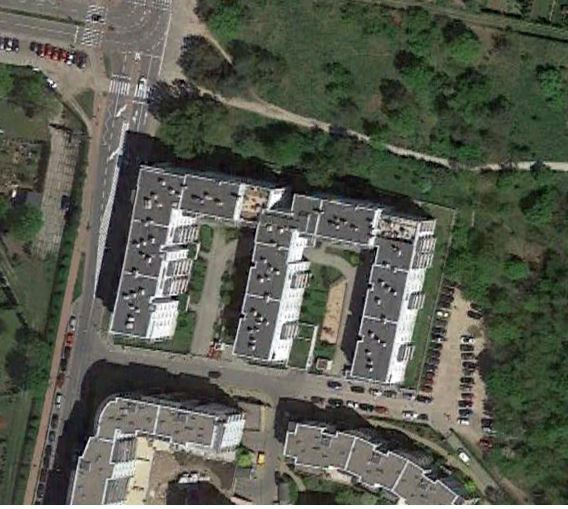block of flats: (104, 159, 439, 388), (61, 386, 254, 505), (278, 411, 479, 504)
